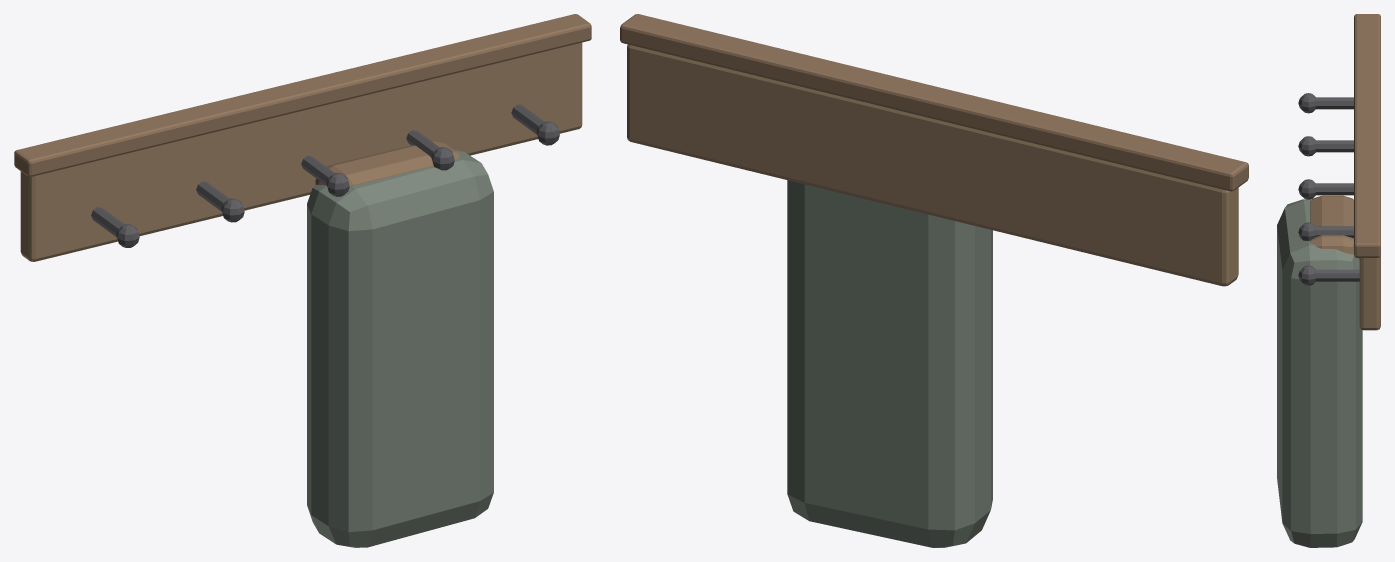
The picture shows the model from 3 angles, left to right: view 1: azimuth 30°, elevation 25°; view 2: azimuth 150°, elevation 25°; view 3: azimuth 270°, elevation 25°; orthographic projection. The views are drawn at different scales.
Parts seen in each view (by area): view 1: pegRail; view 2: pegRail; view 3: pegRail.
Part boxes in pixels (box(x1,y1,x2,y2)): pegRail: box(14, 14, 591, 547); pegRail: box(620, 14, 1248, 547); pegRail: box(1277, 14, 1380, 547).
Size of the model in its own units: 1.02 by 0.755 by 0.1938.
